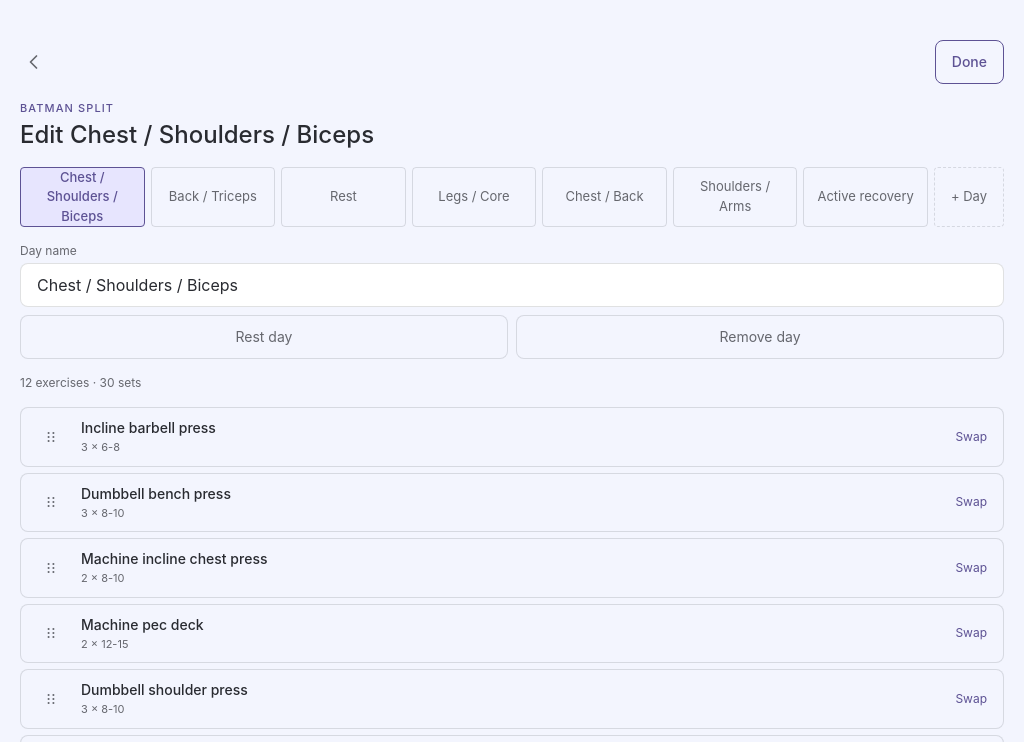
Test: the split editor › offers nothing to add on a rest day
This screenshot has width=1024, height=742.
Expected: the heading "Edit Chest / Shoulders / Biceps" is shown, left=20, top=120, right=374, bottom=148
Click the tab "Rest": (343, 197) left=281, top=166, right=406, bottom=227
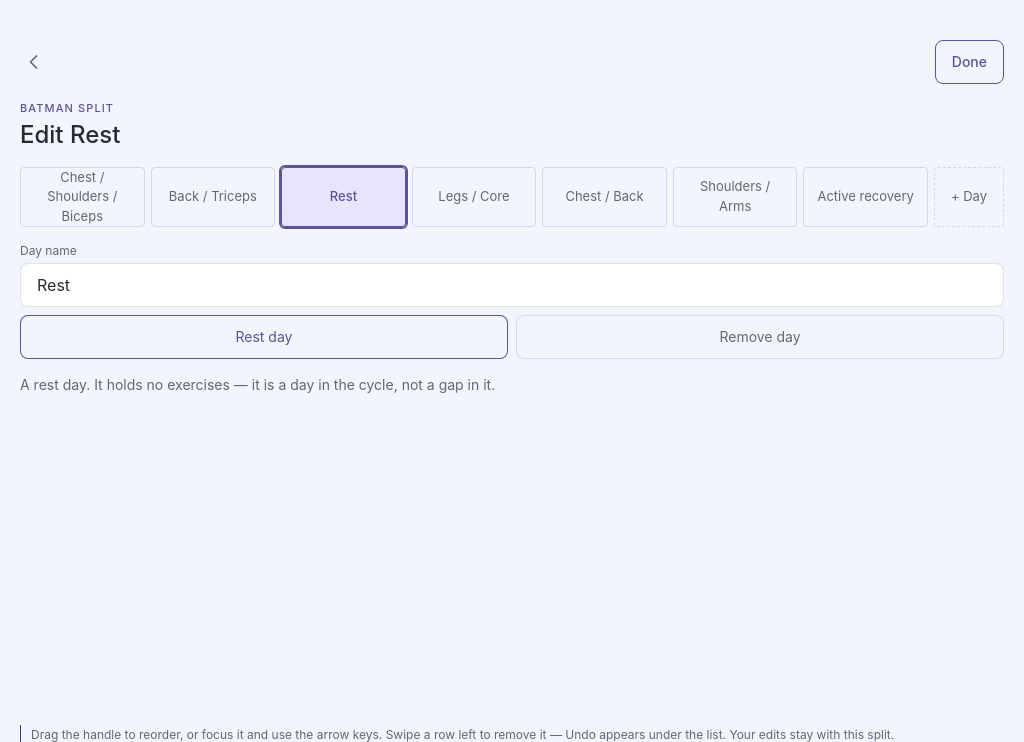
Expected: the text "A rest day" is shown, left=20, top=376, right=495, bottom=393
